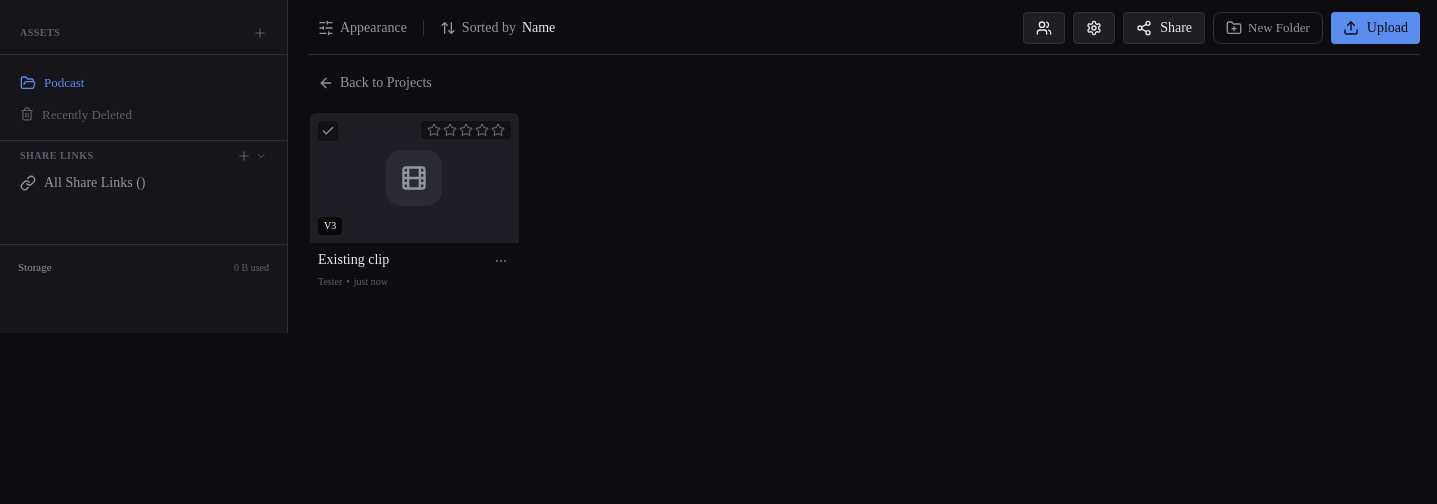
Test: §232 — Share and Download are in the grid card ··· menu › an owner gets every entry the panel had, plus the ones it never had
Click the button without text next to "Existing clip" at (501, 262), box top-left (491, 252), bottom-right (511, 272)
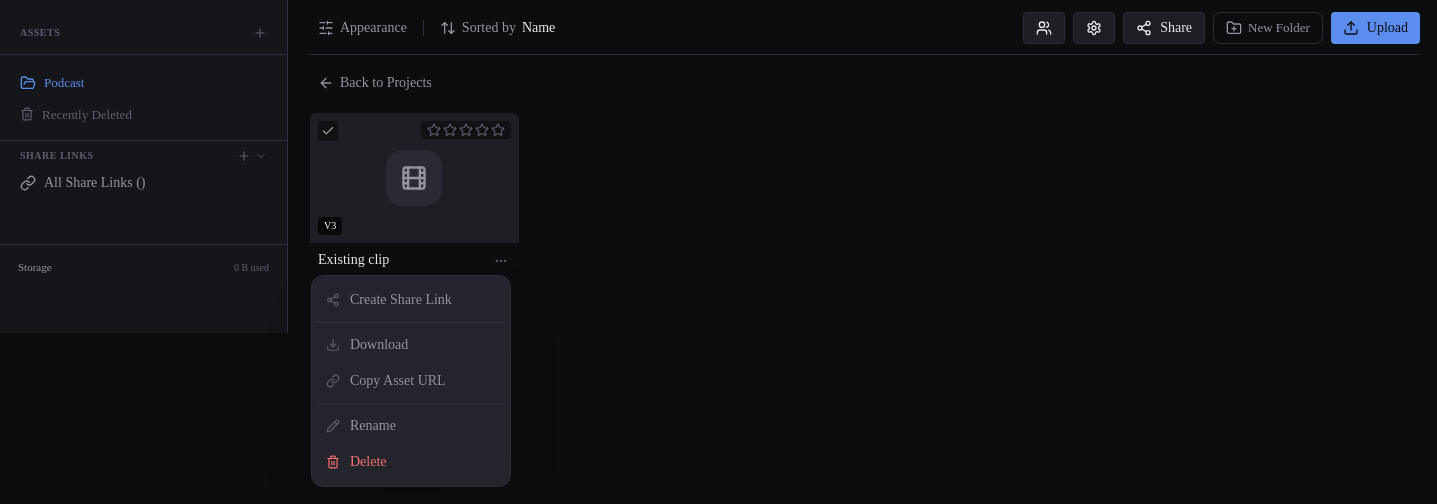
Expected: the menu item "Create Share Link" is shown, top-left (326, 292), bottom-right (452, 307)
Expected: the menu item "Download" is shown, top-left (326, 337), bottom-right (408, 352)
Expected: the menu item "Copy Asset URL" is shown, top-left (326, 373), bottom-right (446, 388)
